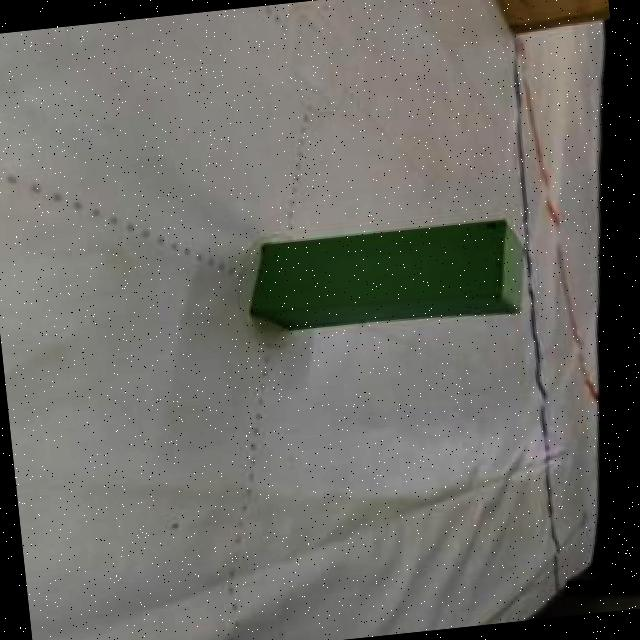greenbox: (244, 209, 539, 340)
